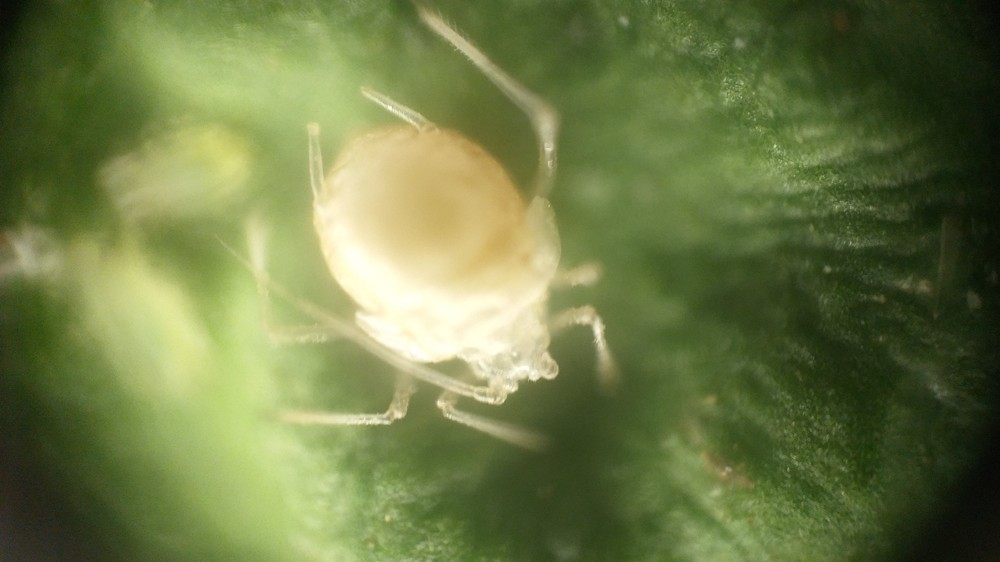Pulgon: (229, 21, 695, 475)
